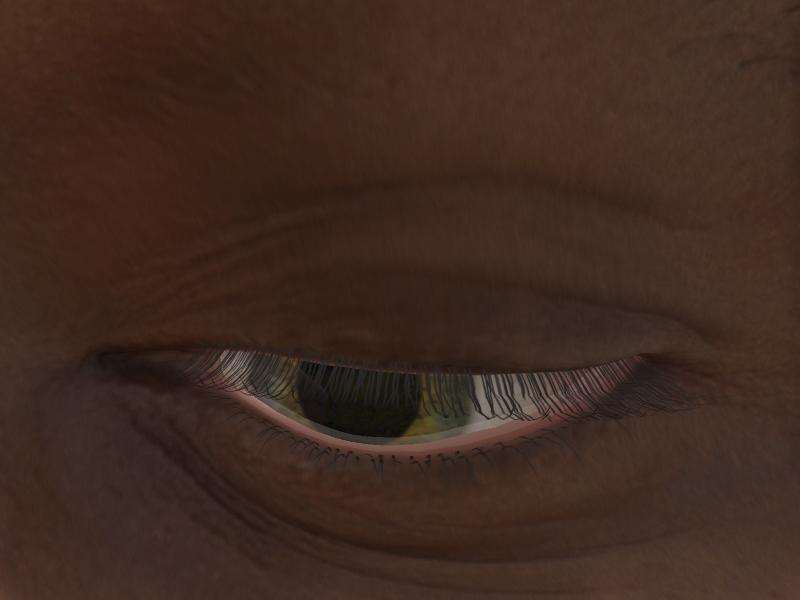eye: (249, 351, 481, 438)
